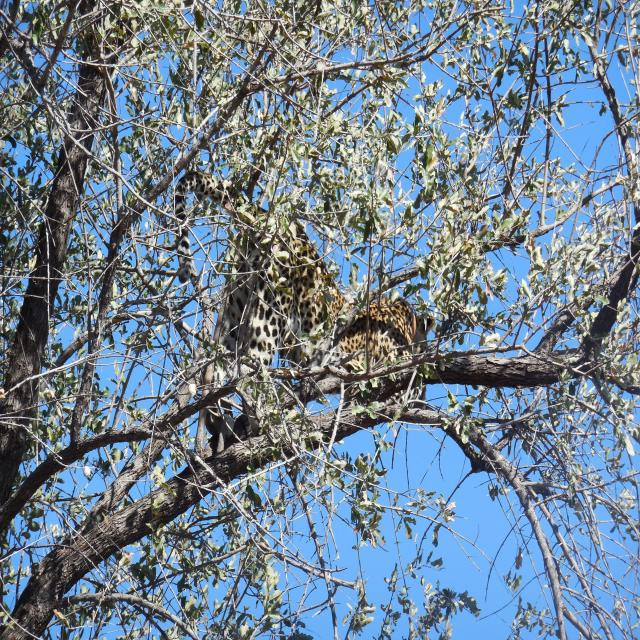Leopard: (74, 188, 443, 462)
